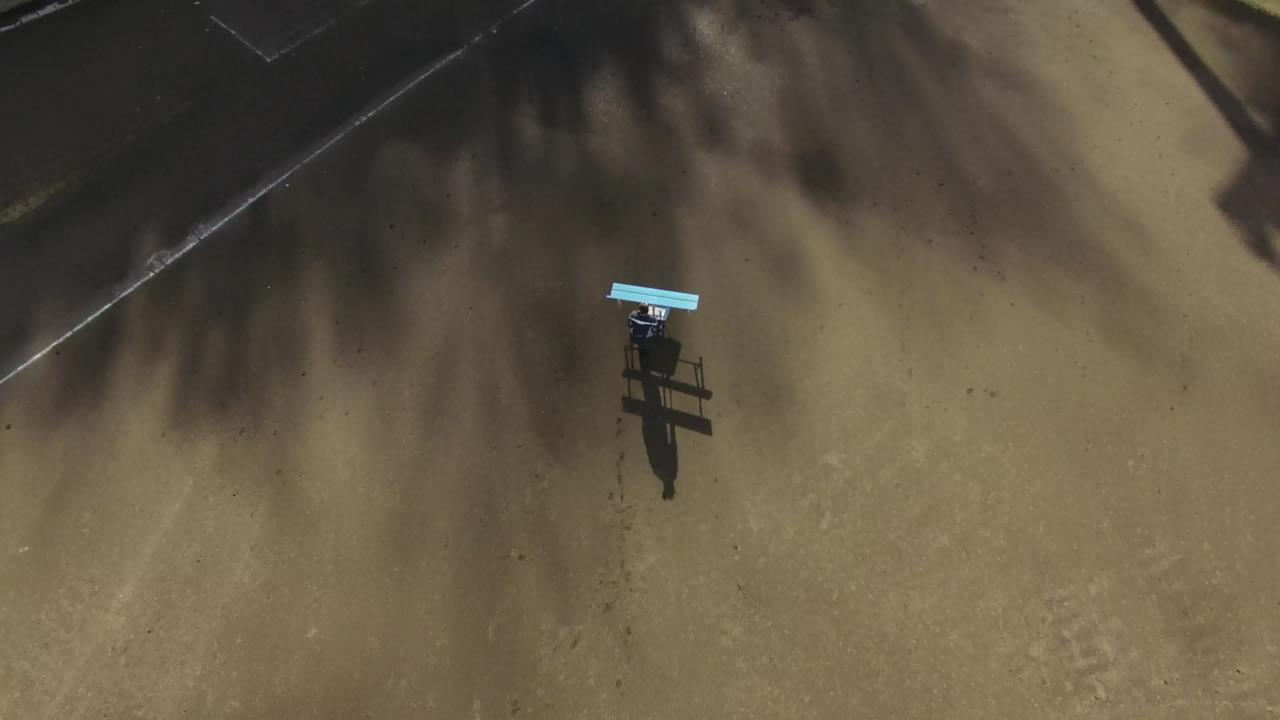person: (613, 301, 670, 348)
